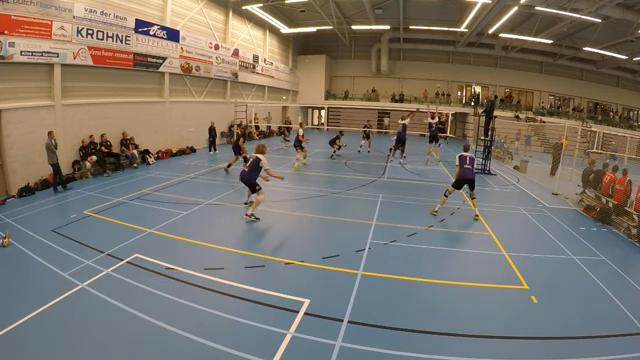Block: (386, 101, 419, 166), (420, 99, 445, 169)
Player: (430, 143, 479, 219), (240, 144, 283, 221), (224, 126, 250, 172), (293, 122, 308, 170), (328, 130, 345, 158), (358, 120, 371, 152), (387, 134, 395, 157)
